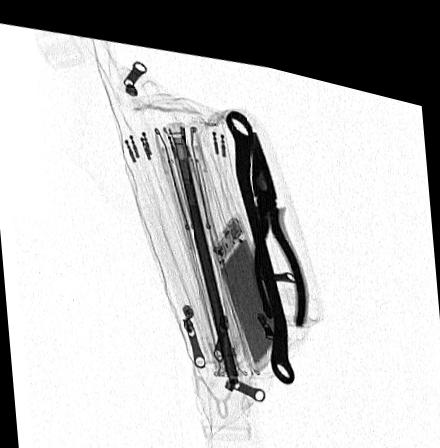Pliers: (253, 116, 307, 312)
Powerbank: (211, 196, 284, 360)
Wrench: (224, 98, 296, 369)
